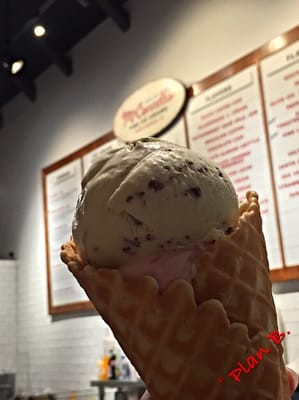pizza: (59, 138, 282, 400)
